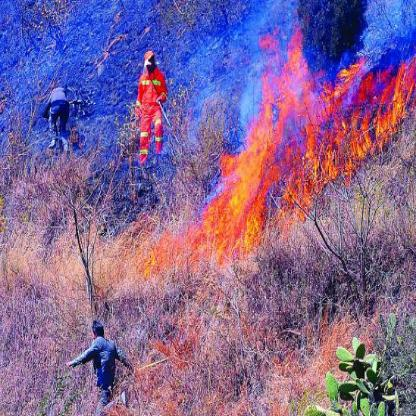fire: (124, 39, 415, 285)
other: (136, 50, 167, 165)
